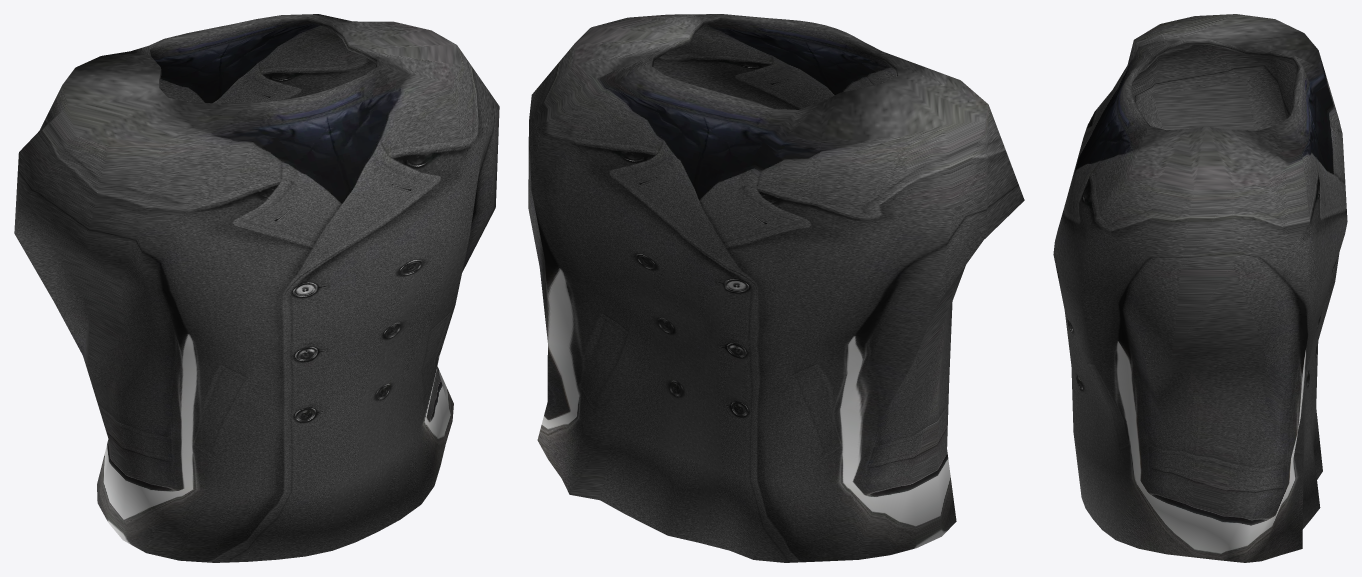
File: 876df7c9-a524-4d40-9519-2badda538fee.glb
3 views of the same model, side by side, from view 1: azimuth 30°, elevation 25°; view 2: azimuth 150°, elevation 25°; view 3: azimuth 270°, elevation 25° (orthographic). The views are drawn at different scales.
Visible parts, largest first — view 1: garment; view 2: garment; view 3: garment.
Boxes of the visible parts, bbox=[...] form: garment: bbox=[14, 14, 499, 562]; garment: bbox=[528, 14, 1024, 562]; garment: bbox=[1053, 14, 1347, 562].
Size of the model in its own units: 0.5362 by 0.5036 by 0.3266.
Materials: 1 (1 with a texture image).
